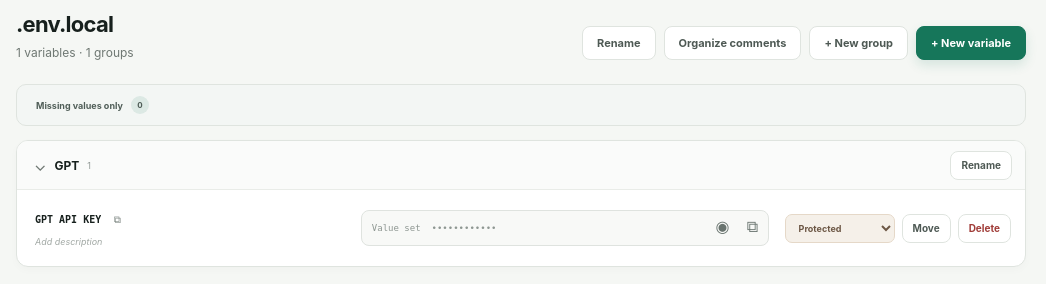
Scenario: FileEditor › explains when the selected file has no empty variables
Click the button "Missing values only 0" at (92, 105), box [25,91,160,119]
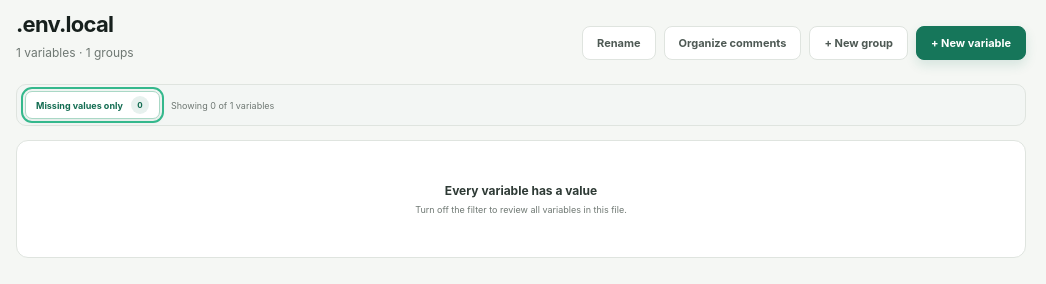
Expected: the text "Every variable has a value" is shown, [445,183,597,198]
Expected: the text "GPT_API_KEY" is gone
